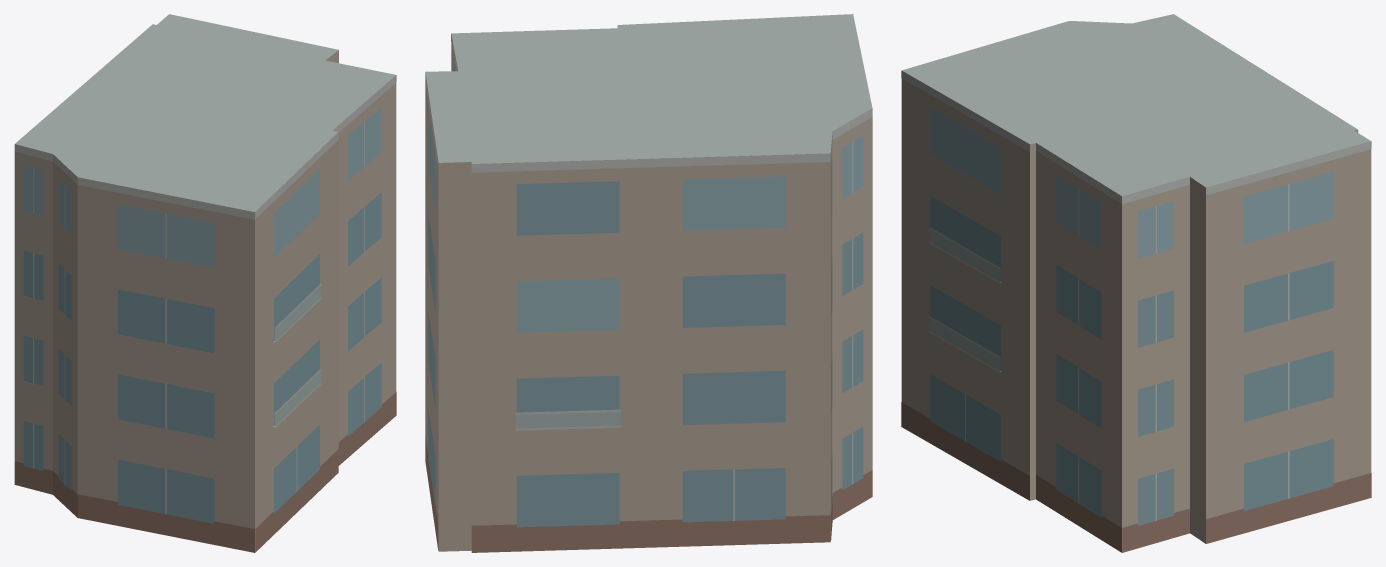
Rendered from survey-upis-32989523.glb.
3 views of the same model, side by side, from view 1: azimuth 30°, elevation 25°; view 2: azimuth 150°, elevation 25°; view 3: azimuth 270°, elevation 25° (orthographic). The views are drawn at different scales.
Visible parts, largest first — view 1: survey-upis-32989523.tmp; view 2: survey-upis-32989523.tmp; view 3: survey-upis-32989523.tmp.
Part boxes in pixels (x1,y1,x2,y2): survey-upis-32989523.tmp: (14,14,396,552); survey-upis-32989523.tmp: (425,14,872,552); survey-upis-32989523.tmp: (901,14,1371,552).
Size of the model in its own units: 12.08 by 11 by 13.14.
